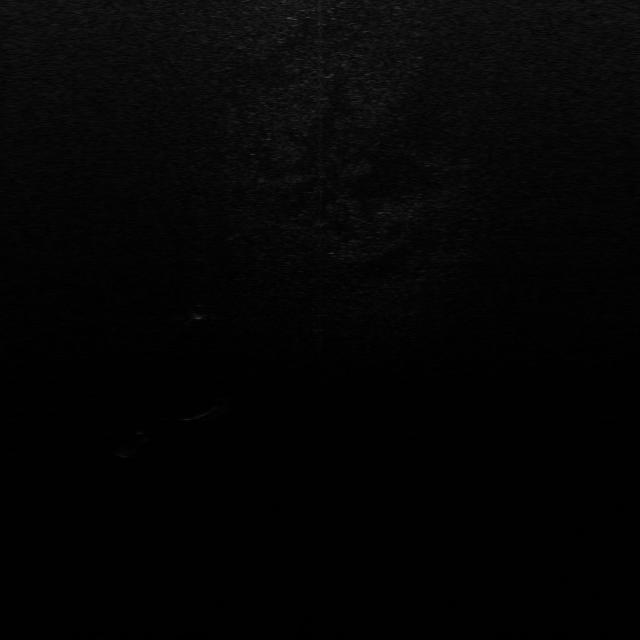ball: (206, 388, 237, 415)
circle cage: (187, 302, 211, 320)
tyre: (113, 428, 151, 458)
